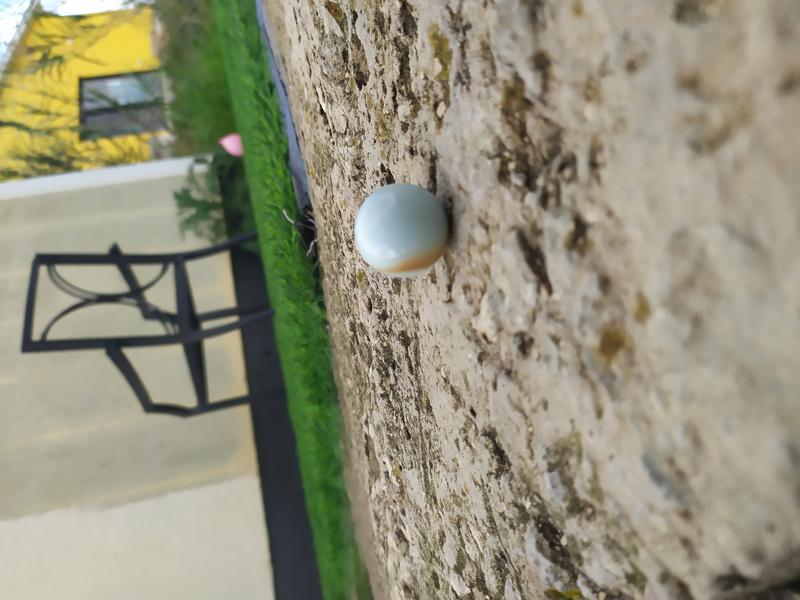Warning: (349, 180, 453, 281)
